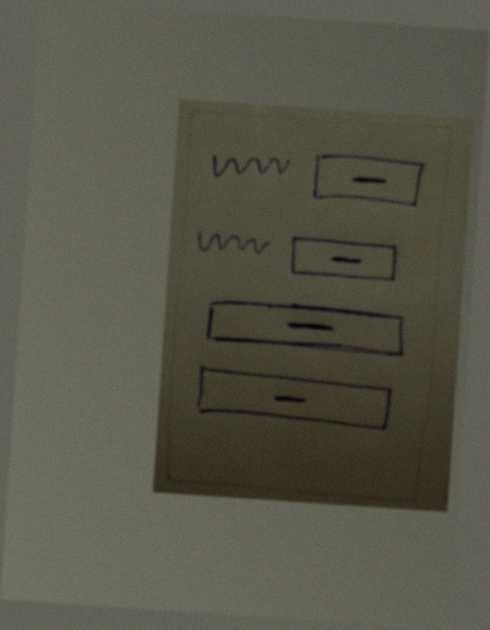button: (191, 362, 399, 435), (201, 296, 412, 367), (307, 147, 429, 216), (285, 230, 404, 292)
text: (206, 143, 296, 189), (191, 224, 277, 267)
